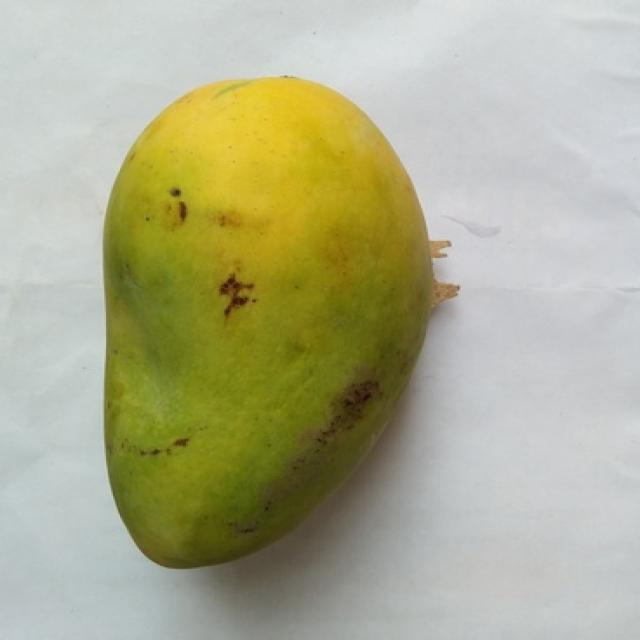Mango: (104, 77, 433, 566)
